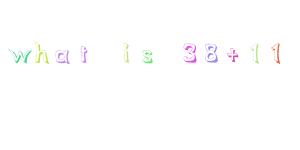+: (223, 44, 244, 66)
1: (267, 36, 289, 69), (244, 36, 267, 66)
3: (176, 38, 202, 67)
8: (201, 39, 222, 66)
a: (52, 44, 73, 67)
h: (31, 32, 52, 67)
i: (116, 39, 138, 66)
s: (138, 46, 157, 68)
t: (74, 42, 94, 67)
w: (6, 39, 31, 69)
